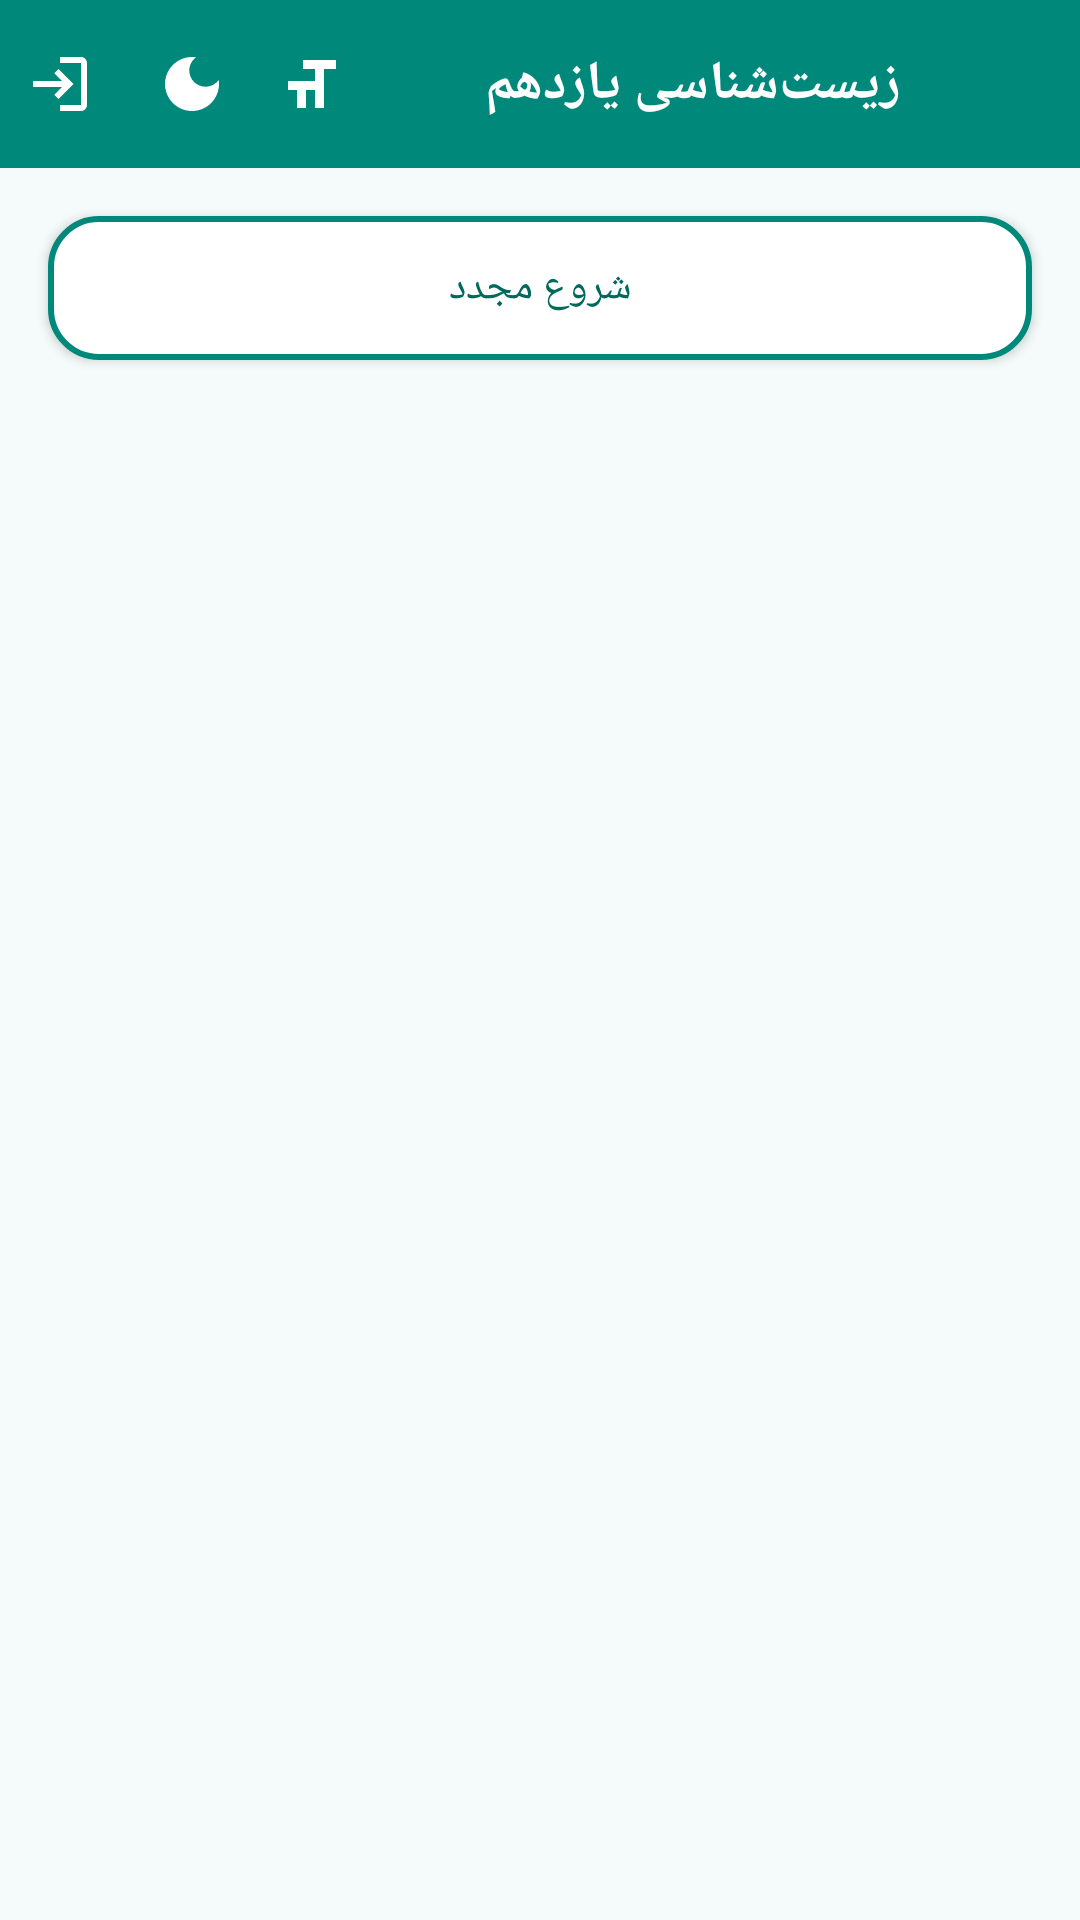

Screen size 1080 × 1920. Icon name, then its box in pixels as bbox=(x1, y1, x2, y2):
اندازه فونت: bbox=(288, 60, 336, 108)
حالت تاریک: bbox=(165, 57, 219, 111)
خروج: bbox=(33, 57, 87, 111)
